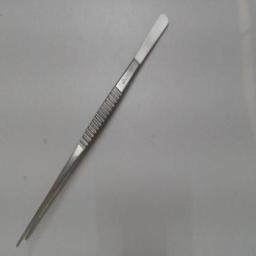DeBakey Dissector: (8, 7, 180, 253)
